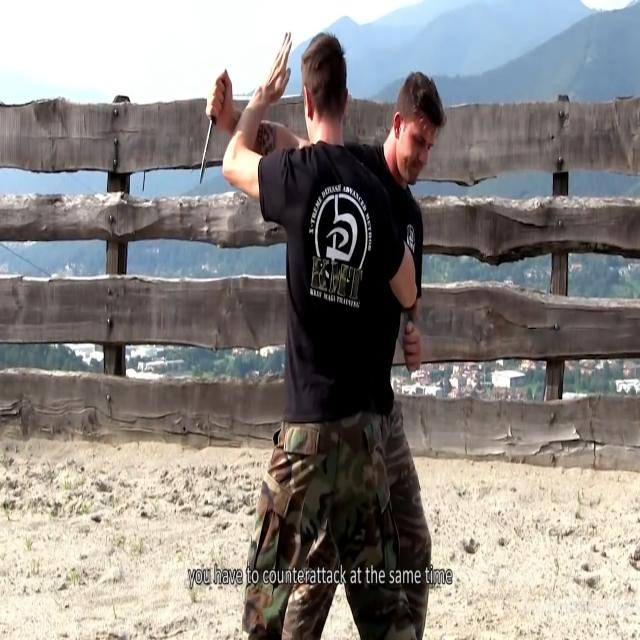knife: (199, 117, 215, 191)
